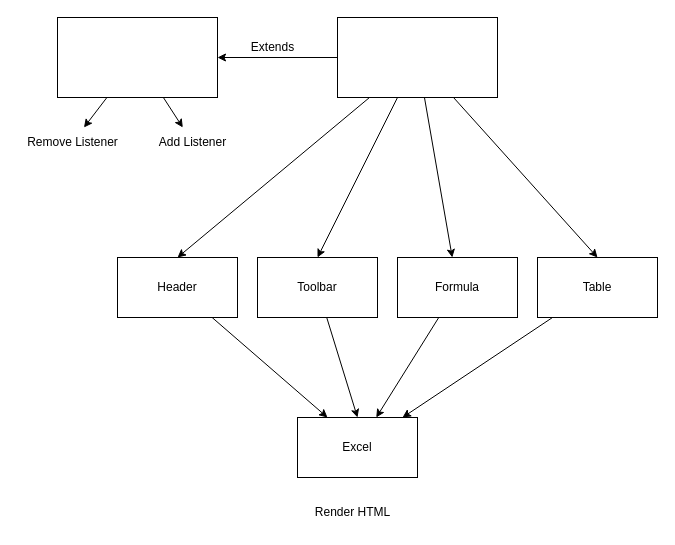
The diagram is 675 pixels wide and 545 high, and some of its shapes have lost their labels. The shapes that lost their labels are listed below. From the top down, each one's box as (x1, y1, x2, y2) in pixels, then its label:
(56, 16, 218, 98): DOM Listener
(336, 16, 498, 98): Excel Component
